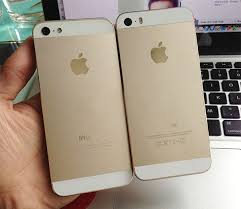iphone: (29, 16, 138, 196)
iphone5: (28, 16, 137, 196)
